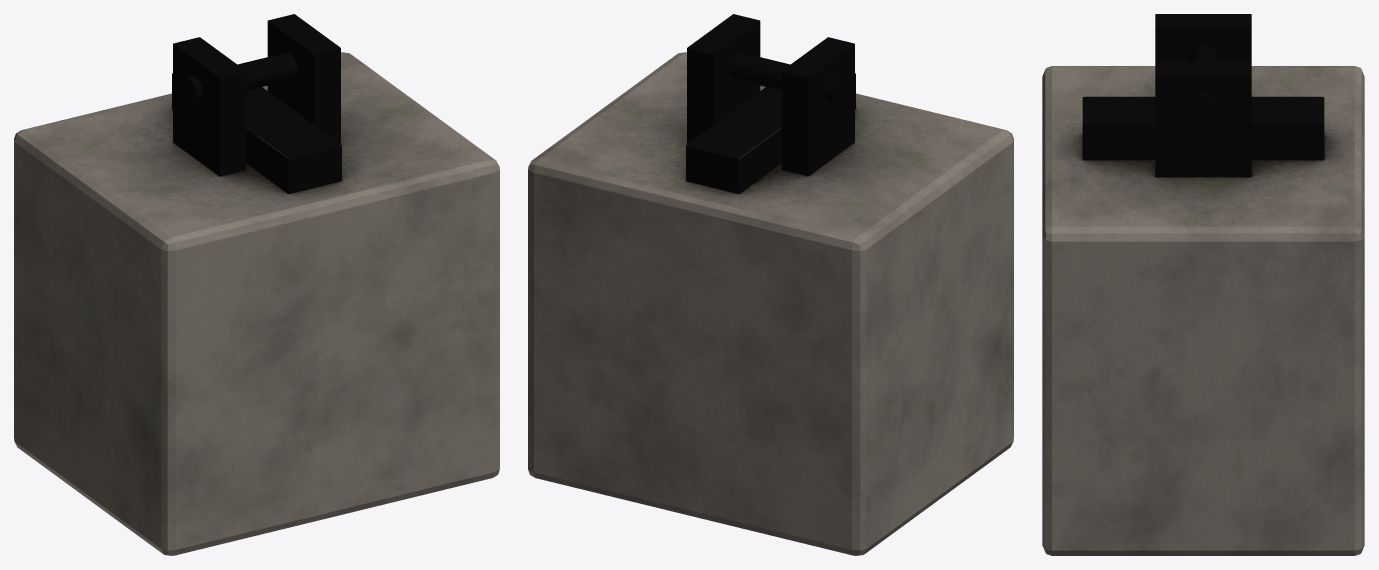
File: puzzle_alavanca_base.glb
3 views of the same model, side by side, from view 1: azimuth 30°, elevation 25°; view 2: azimuth 150°, elevation 25°; view 3: azimuth 270°, elevation 25° (orthographic). The views are drawn at different scales.
Parts seen in each view (by area): view 1: puzzle_alavanca_base; view 2: puzzle_alavanca_base; view 3: puzzle_alavanca_base.
Part boxes in pixels (x1,y1,x2,y2): puzzle_alavanca_base: (14, 14, 499, 555); puzzle_alavanca_base: (528, 14, 1013, 555); puzzle_alavanca_base: (1042, 14, 1364, 555).
Bounding box in the file's own units: 0.5 × 0.59 × 0.4.
1 material, 1 textured.
